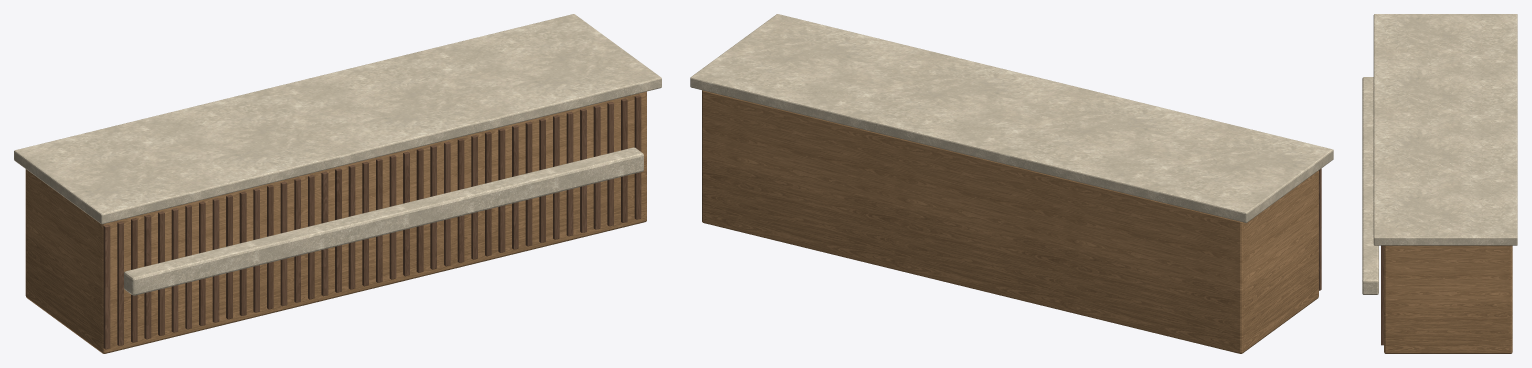
Rendered from hiperreal-hd.glb.
The picture shows the model from 3 angles, left to right: view 1: azimuth 30°, elevation 25°; view 2: azimuth 150°, elevation 25°; view 3: azimuth 270°, elevation 25°; orthographic projection. The views are drawn at different scales.
Visible parts, largest first — view 1: starbucksCounter_41, starbucksCounter_0, starbucksCounter_42, starbucksCounter_1, starbucksCounter_2, starbucksCounter_40, starbucksCounter_9, starbucksCounter_6, starbucksCounter_4, starbucksCounter_17, starbucksCounter_19, starbucksCounter_22 (+31 smaller); view 2: starbucksCounter_0, starbucksCounter_41; view 3: starbucksCounter_41, starbucksCounter_0, starbucksCounter_42, starbucksCounter_40.
Boxes of the visible parts, x1,y1,x2,y2 form: starbucksCounter_41: (14, 14, 661, 224); starbucksCounter_0: (25, 91, 646, 353); starbucksCounter_42: (124, 147, 643, 295); starbucksCounter_1: (103, 224, 110, 349); starbucksCounter_2: (117, 221, 123, 345); starbucksCounter_40: (634, 95, 641, 219); starbucksCounter_9: (212, 198, 219, 322); starbucksCounter_6: (171, 208, 178, 332); starbucksCounter_4: (144, 214, 151, 339); starbucksCounter_17: (321, 171, 328, 296); starbucksCounter_19: (348, 165, 355, 289); starbucksCounter_22: (389, 155, 396, 279); starbucksCounter_0: (702, 90, 1318, 353); starbucksCounter_41: (690, 14, 1333, 222); starbucksCounter_41: (1373, 14, 1517, 245); starbucksCounter_0: (1384, 245, 1512, 353); starbucksCounter_42: (1362, 77, 1378, 294); starbucksCounter_40: (1381, 245, 1383, 345).
Size of the model in its own units: 4.12 by 1.04 by 1.21.
3 materials, 3 textured.
